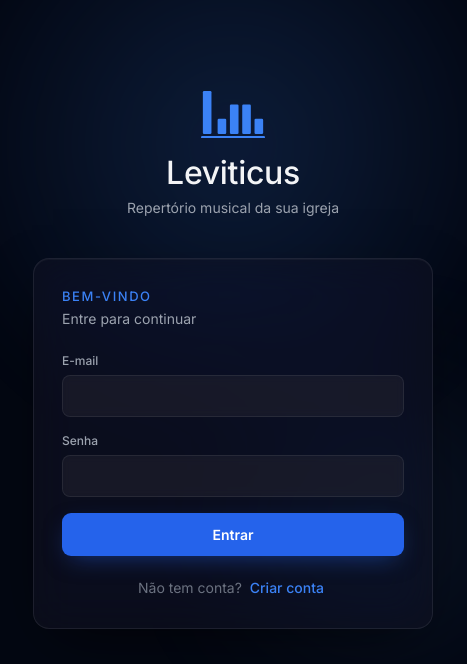
Test: Login › shows friendly error message when sign-in credentials are invalid
Step 1. Type "test@test.com" into the field labelled "E-mail" → point(233, 396), box 62,376 -> 404,418
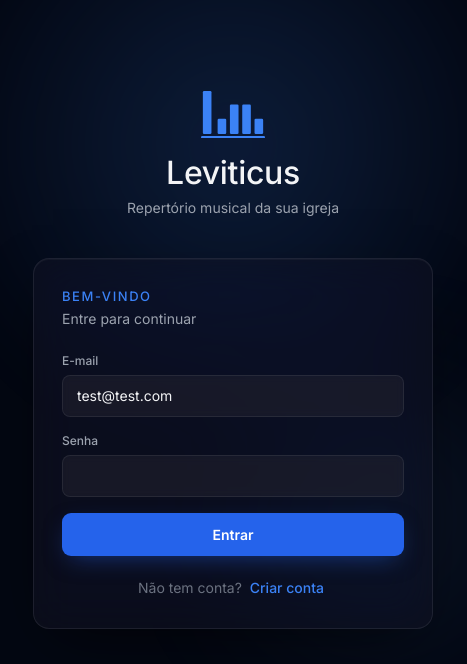
Step 2. Type "wrong" into the password field labelled "Senha" → point(233, 476), box 62,456 -> 404,498
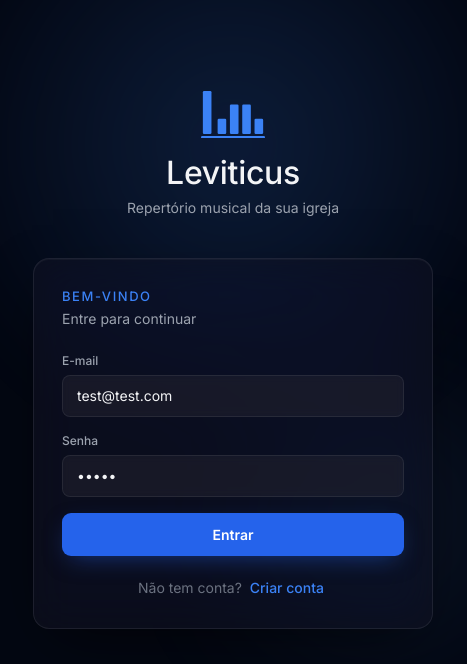
Step 3. Click the button "Entrar" → point(233, 535), box 62,514 -> 404,556
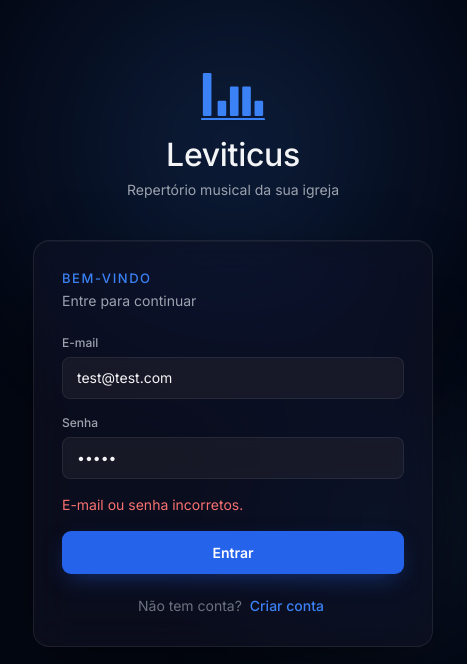
Now the message reads "E-mail ou senha incorretos.", box 62,496 -> 243,514
